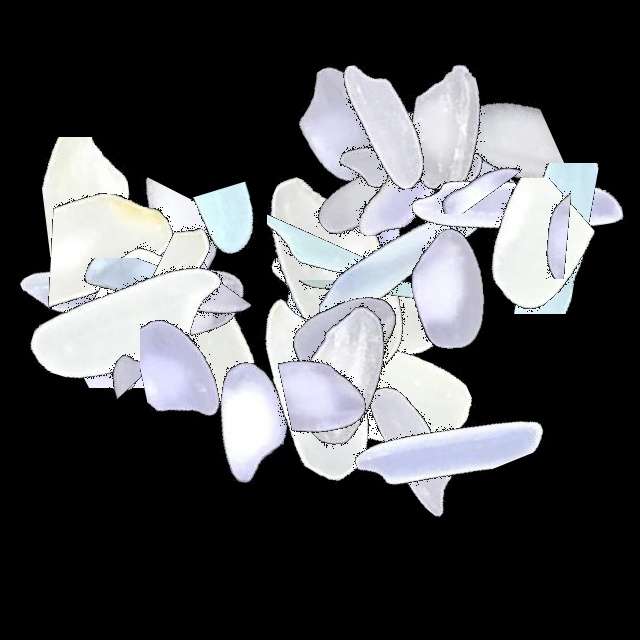Broken: (351, 85, 601, 247), (0, 137, 250, 296), (310, 330, 560, 486), (92, 199, 246, 449), (140, 234, 293, 484), (384, 163, 634, 314), (0, 183, 250, 333), (266, 164, 516, 311), (232, 311, 482, 458), (390, 178, 640, 323), (93, 133, 227, 383), (420, 140, 542, 390), (36, 227, 286, 349), (0, 267, 250, 388), (46, 260, 296, 380), (0, 258, 250, 377), (267, 178, 383, 428), (262, 280, 512, 392), (141, 188, 250, 438), (319, 106, 569, 214), (390, 173, 640, 279), (55, 220, 151, 470), (182, 109, 273, 359), (46, 290, 136, 540), (123, 155, 208, 405), (113, 258, 195, 508)
Full: (267, 10, 517, 260), (70, 207, 320, 457), (235, 177, 485, 427), (49, 172, 299, 422), (186, 167, 436, 417), (214, 0, 464, 250), (250, 259, 500, 509), (206, 153, 456, 403), (378, 78, 628, 328), (253, 71, 503, 321), (0, 164, 250, 414), (284, 324, 534, 574), (126, 299, 376, 549), (272, 138, 522, 388), (286, 41, 536, 291), (186, 266, 436, 516), (291, 37, 541, 287), (323, 6, 573, 256), (390, 78, 640, 328), (0, 193, 250, 443), (220, 213, 470, 463), (321, 165, 571, 415), (222, 250, 472, 500), (260, 0, 510, 250)
